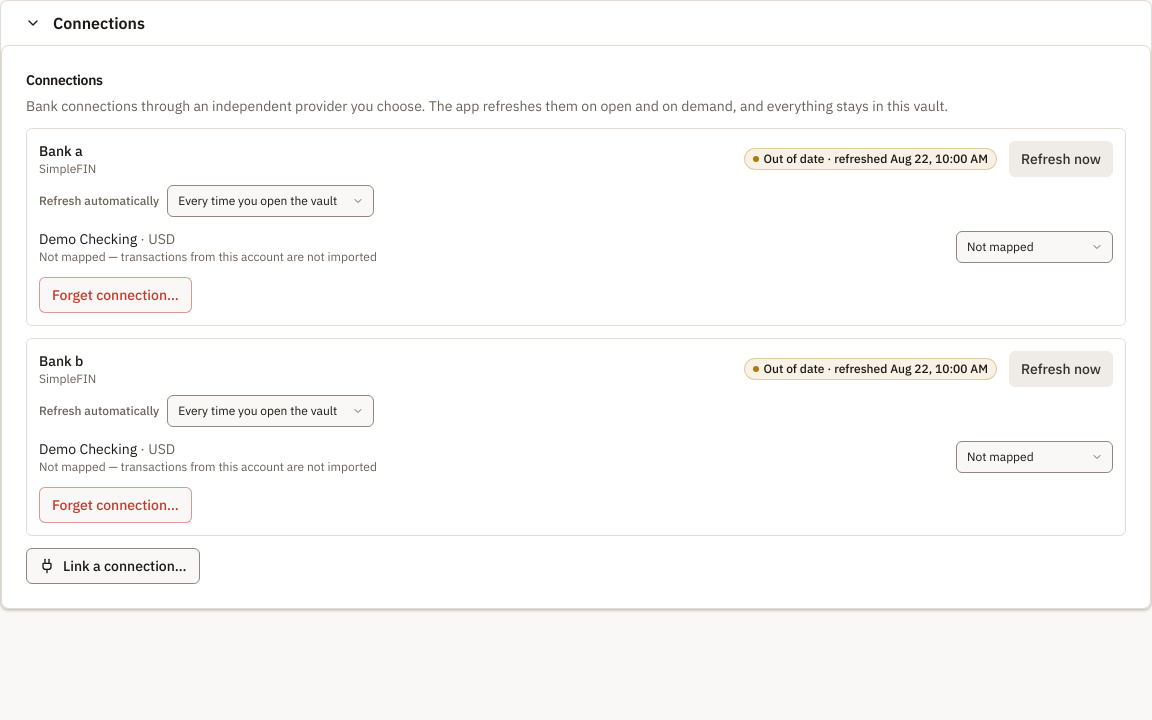
Test: Connections › a failed Refresh now on one connection leaves the other connection's button in the body
Click the button "Refresh now" in the row of "Bank b" at (1061, 369), box [1009, 351, 1113, 387]
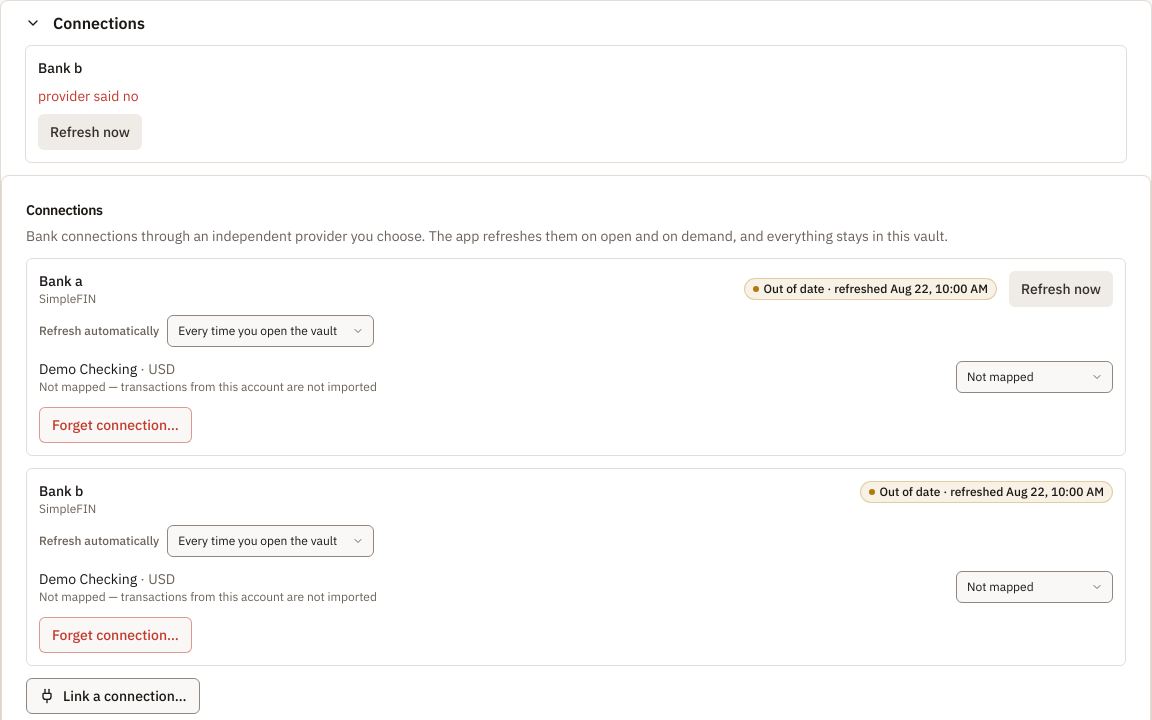
Expected: the number of buttons "Refresh now" is 2, [38, 114, 142, 150]; [1009, 271, 1113, 307]
Result: the text "provider said no" is shown at [38, 87, 139, 105]
Result: the element showing "Bank b provider said no Refresh now" is shown at [25, 45, 1127, 163]
